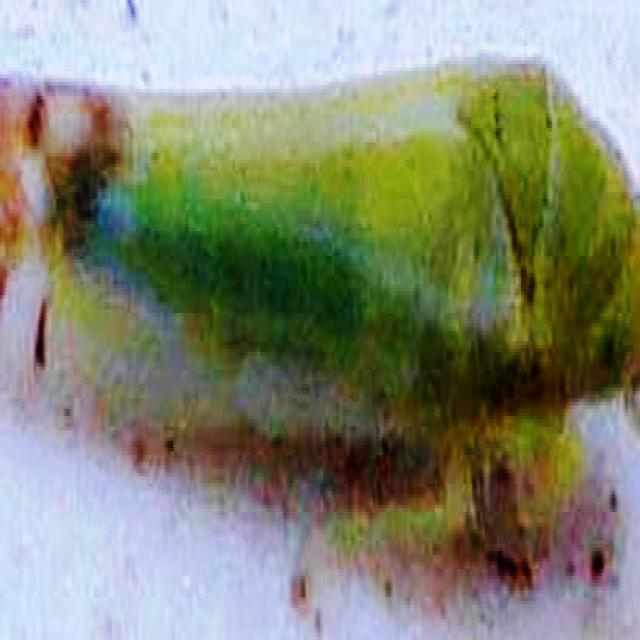green-leafhopper: (8, 64, 638, 447)
